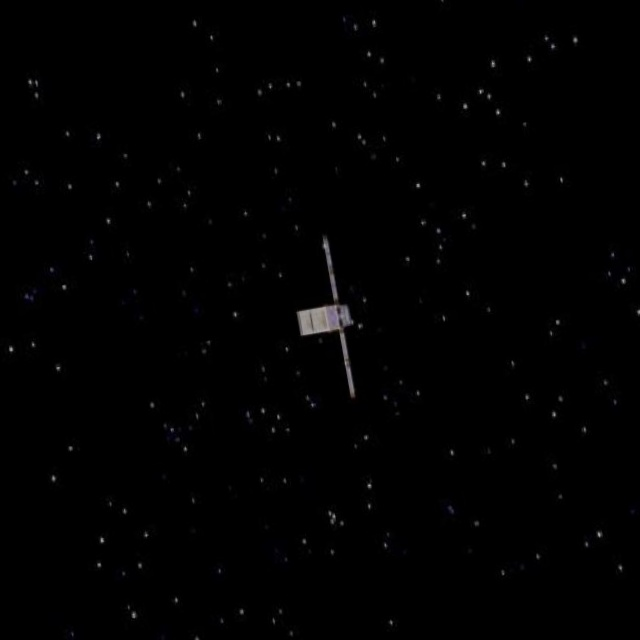medium_debris: (271, 232, 391, 411)
